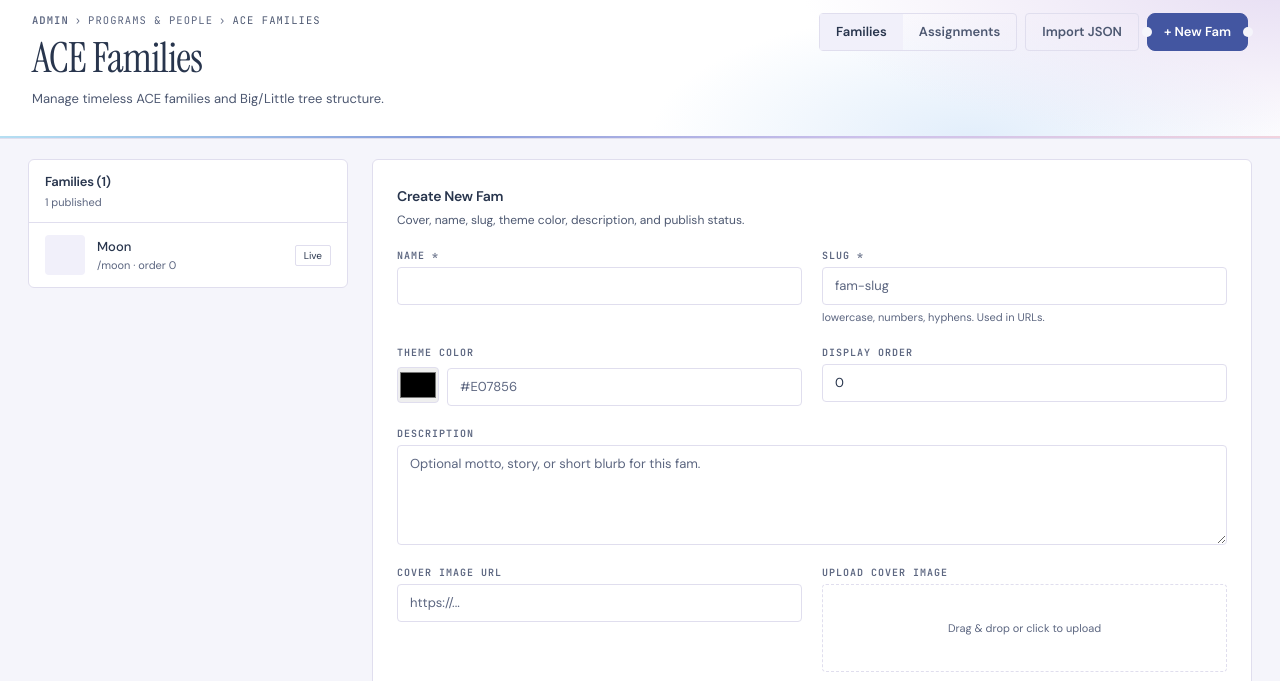
Scenario: shows linked, suggested, ambiguous, and unmatched status for each node
The width and height of the screenshot is (1280, 681).
Click the button "Moon /moon · order 0 Live" at [65, 255], box left=29, top=223, right=347, bottom=287
(page scrolled)
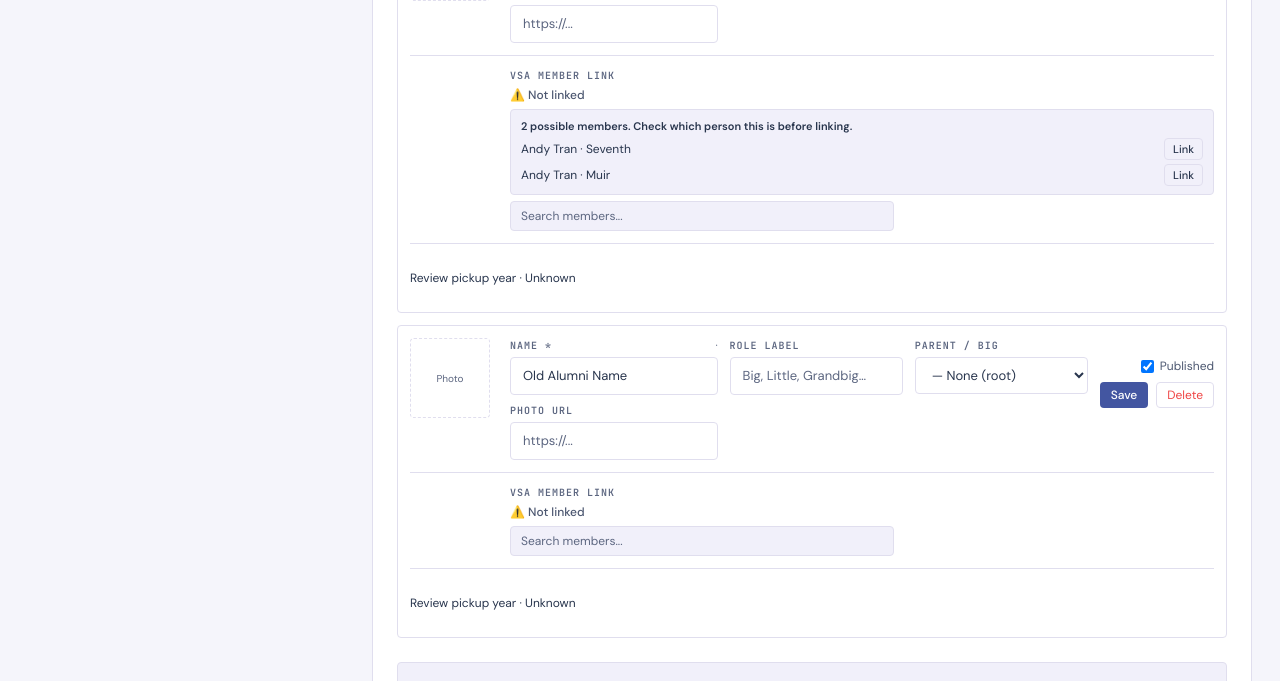
Expected: the picture named "Not linked: no member match" is shown, left=715, top=340, right=718, bottom=351
Expected: the text "Not linked" is shown 3 times
Expected: the text "2 possible members. Check which person" is shown, left=521, top=119, right=852, bottom=133
